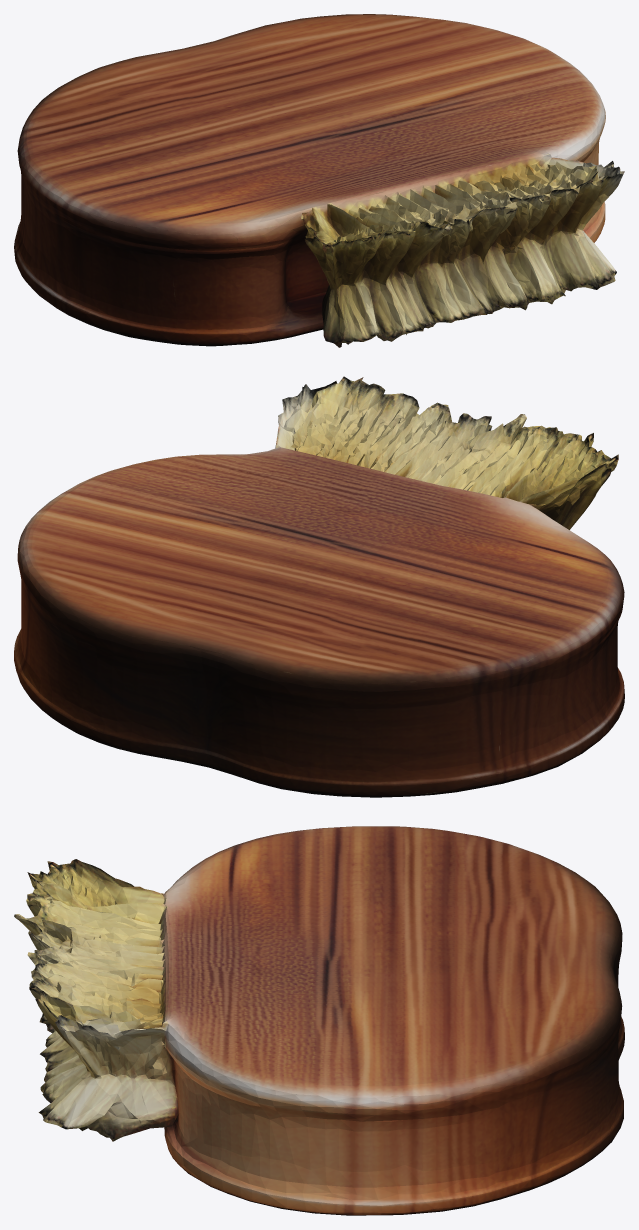
Rendered from wooden-nail-brush-3d.jpeg.glb.
The picture shows the model from 3 angles, top to bottom: view 1: azimuth 30°, elevation 25°; view 2: azimuth 150°, elevation 25°; view 3: azimuth 270°, elevation 25°; orthographic projection. The views are drawn at different scales.
Visible parts, largest first — view 1: world; view 2: world; view 3: world.
Part boxes in pixels (x1=…): world: x1=14, y1=14, x2=624, y2=347; world: x1=14, y1=376, x2=624, y2=797; world: x1=14, y1=826, x2=624, y2=1215.
Size of the model in its own units: 1 by 0.2761 by 0.9418.
1 material, 1 textured.
